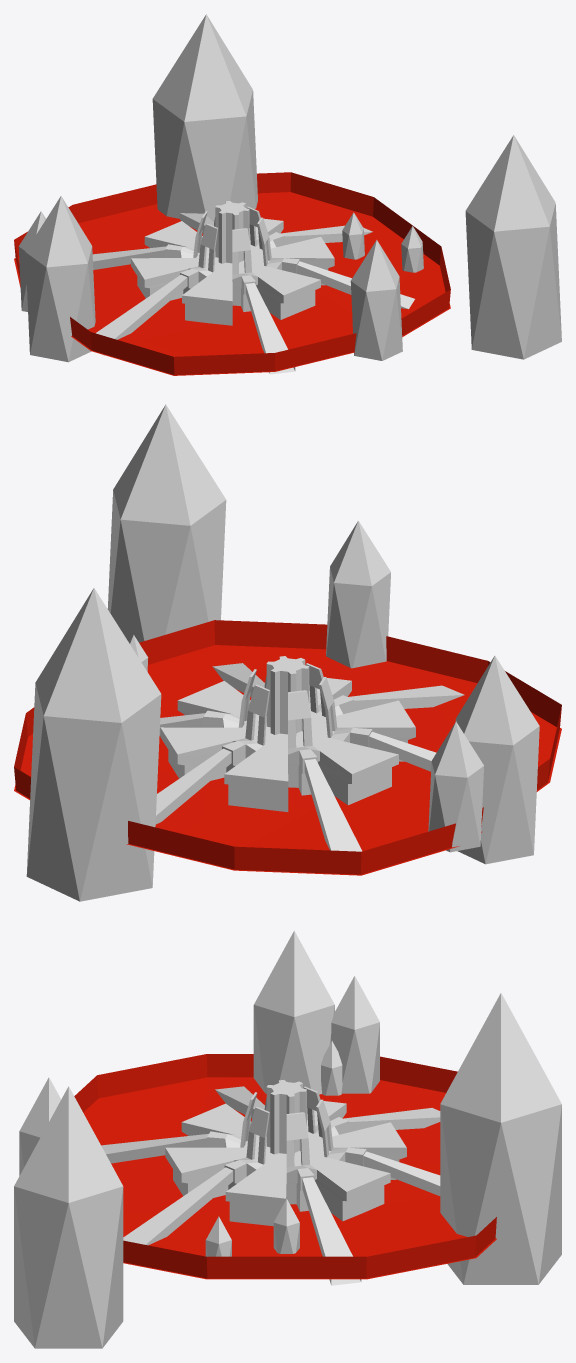
The model's file is Monument.fbx.
3 renders of one model, top to bottom at view 1: azimuth 30°, elevation 25°; view 2: azimuth 150°, elevation 25°; view 3: azimuth 270°, elevation 25°, orthographic. The views are drawn at different scales.
Visible parts, largest first — view 1: MonumentMesh, MonumentFence; view 2: MonumentMesh, MonumentFence; view 3: MonumentMesh, MonumentFence.
Part boxes in pixels (left/top/right/bottom): MonumentMesh: left=14, top=14, right=561, bottom=375; MonumentFence: left=14, top=172, right=450, bottom=375; MonumentMesh: left=14, top=404, right=561, bottom=901; MonumentFence: left=14, top=620, right=561, bottom=874; MonumentMesh: left=14, top=930, right=561, bottom=1348; MonumentFence: left=74, top=1054, right=496, bottom=1278.
Bounding box in the file's own units: 15622 × 7908 × 14518.
